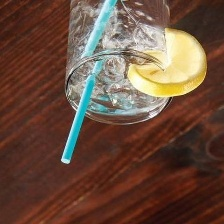drinking_straw: (56, 0, 121, 168)
glass: (60, 0, 178, 129)
